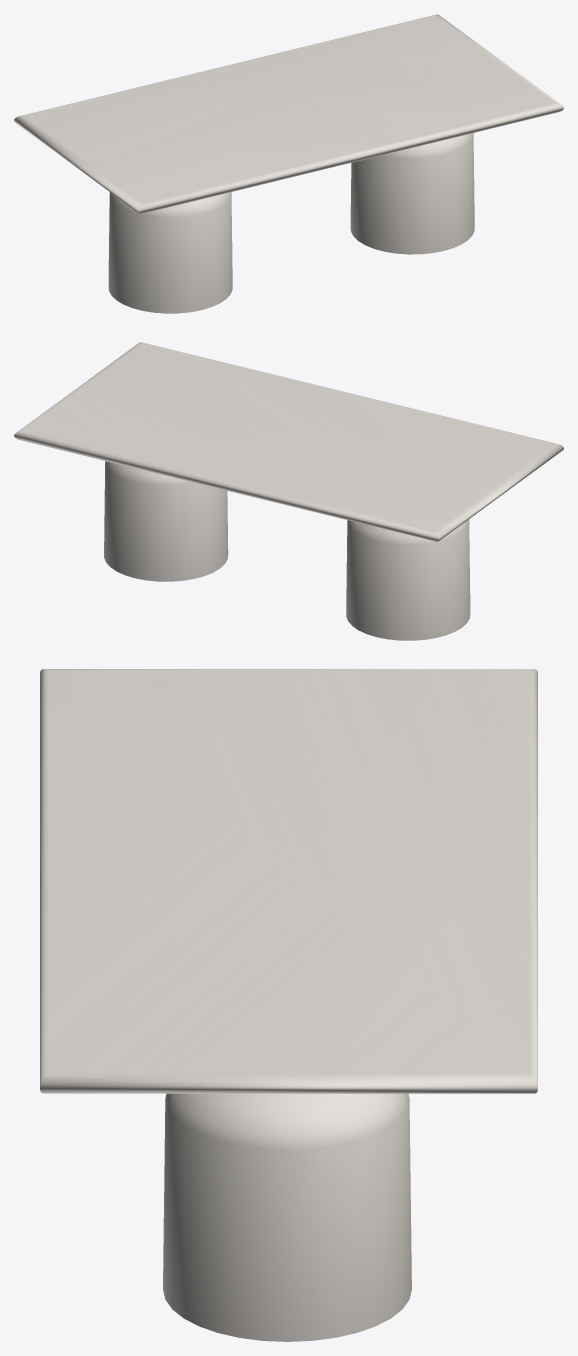
Rendered from pearlwhite_recta_round_tornado.glb.
3 views of the same model, one above another, from view 1: azimuth 30°, elevation 25°; view 2: azimuth 150°, elevation 25°; view 3: azimuth 270°, elevation 25° (orthographic). The views are drawn at different scales.
Parts seen in each view (by area): view 1: tabletop_recta_round.004, tableleg_tornado.020; view 2: tabletop_recta_round.004, tableleg_tornado.020; view 3: tabletop_recta_round.004, tableleg_tornado.020.
Part boxes in pixels (box(x1,y1,x2,y2)): tabletop_recta_round.004: box(14, 14, 563, 213); tableleg_tornado.020: box(108, 133, 474, 313); tabletop_recta_round.004: box(14, 342, 563, 541); tableleg_tornado.020: box(104, 461, 470, 640); tabletop_recta_round.004: box(40, 669, 537, 1093); tableleg_tornado.020: box(163, 1093, 411, 1341).
Size of the model in its own units: 7.5 by 2.5 by 3.8.
Materials: 1 (1 with a texture image).
